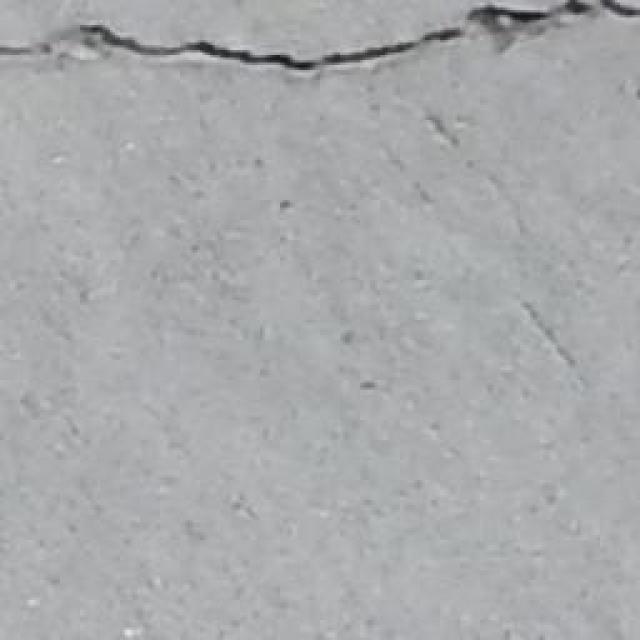concrete-crack: (0, 25, 462, 70), (465, 0, 640, 35)
